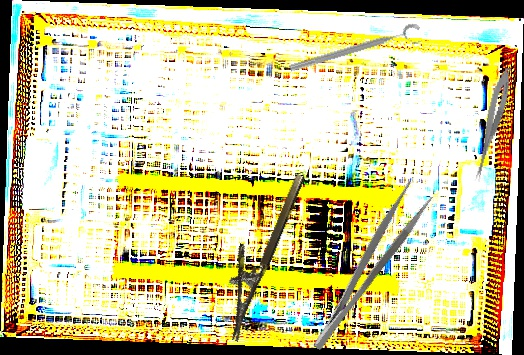Dressing Forceps: (296, 179, 436, 354)
Fixation Ring: (287, 21, 425, 83)
Micro Scissor: (470, 65, 516, 185)
Needle Holder: (204, 164, 308, 342)
